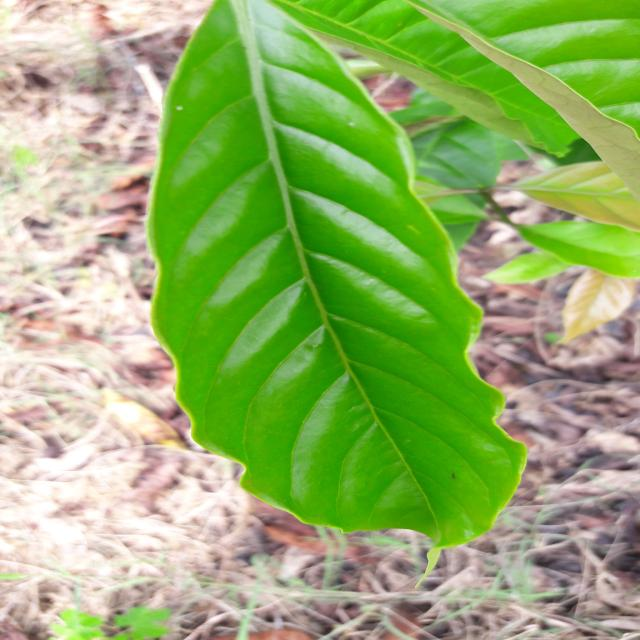Sanas: (144, 0, 529, 555)
